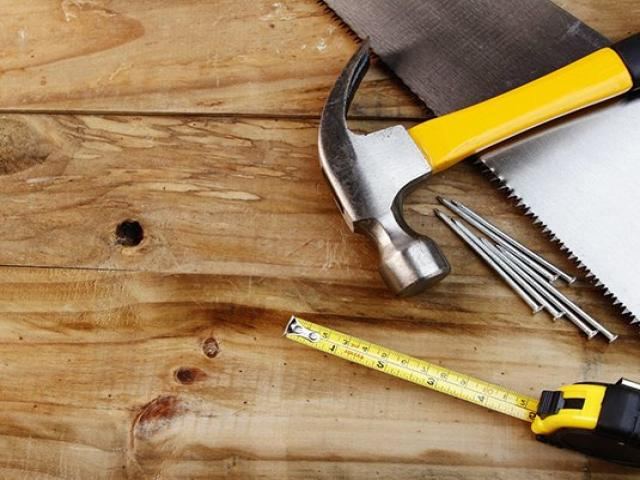Hammer: (319, 33, 640, 295)
Tape measure: (284, 315, 640, 466)
